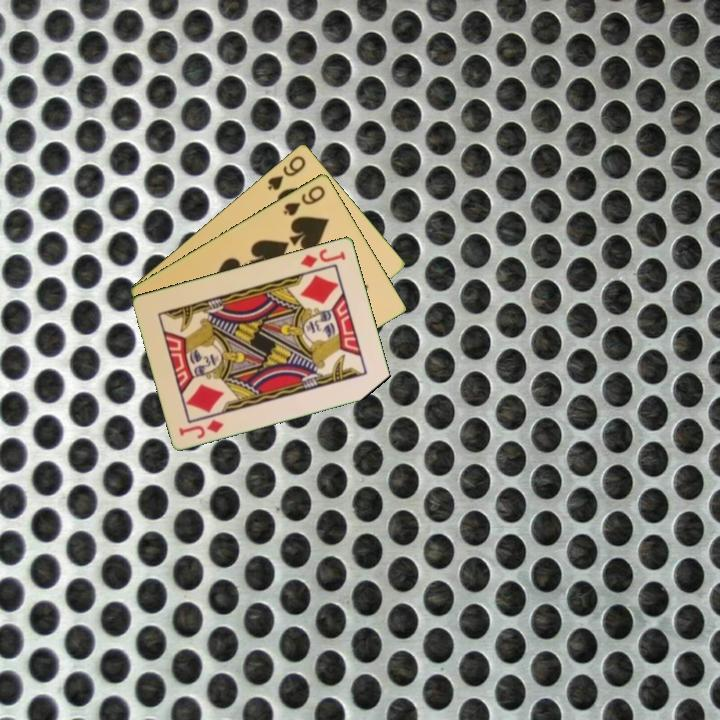9s: (279, 181, 328, 219), (264, 152, 309, 193)
Jd: (297, 245, 349, 270), (175, 416, 227, 441)
